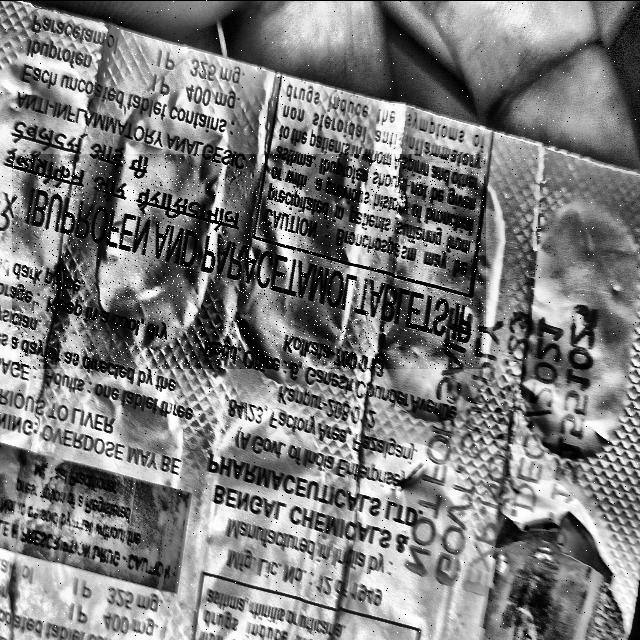IBUPROFEN AND PARACETAMOL TABLETS: (12, 154, 485, 368)
